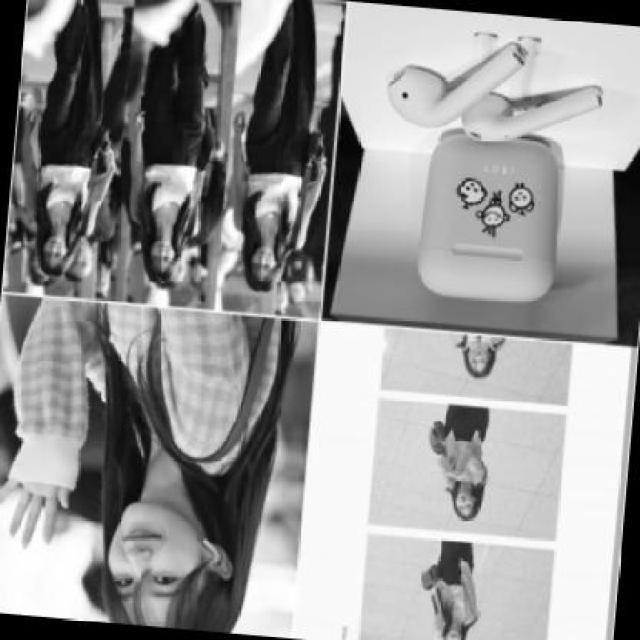earphone: (362, 41, 613, 328), (201, 529, 243, 575)
